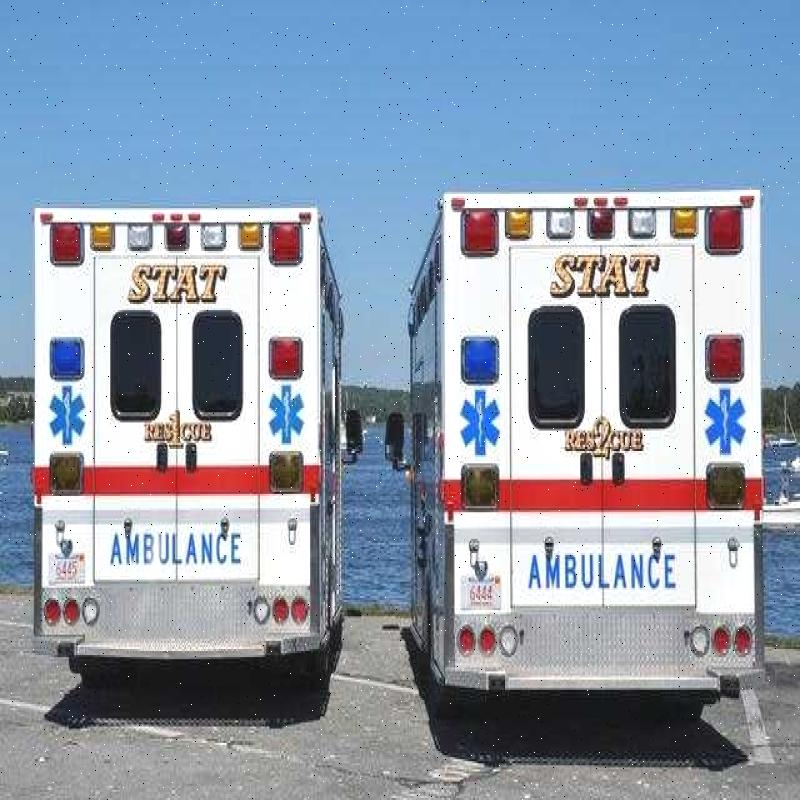AmbulanceSiren: (457, 175, 750, 290), (48, 208, 310, 302)
